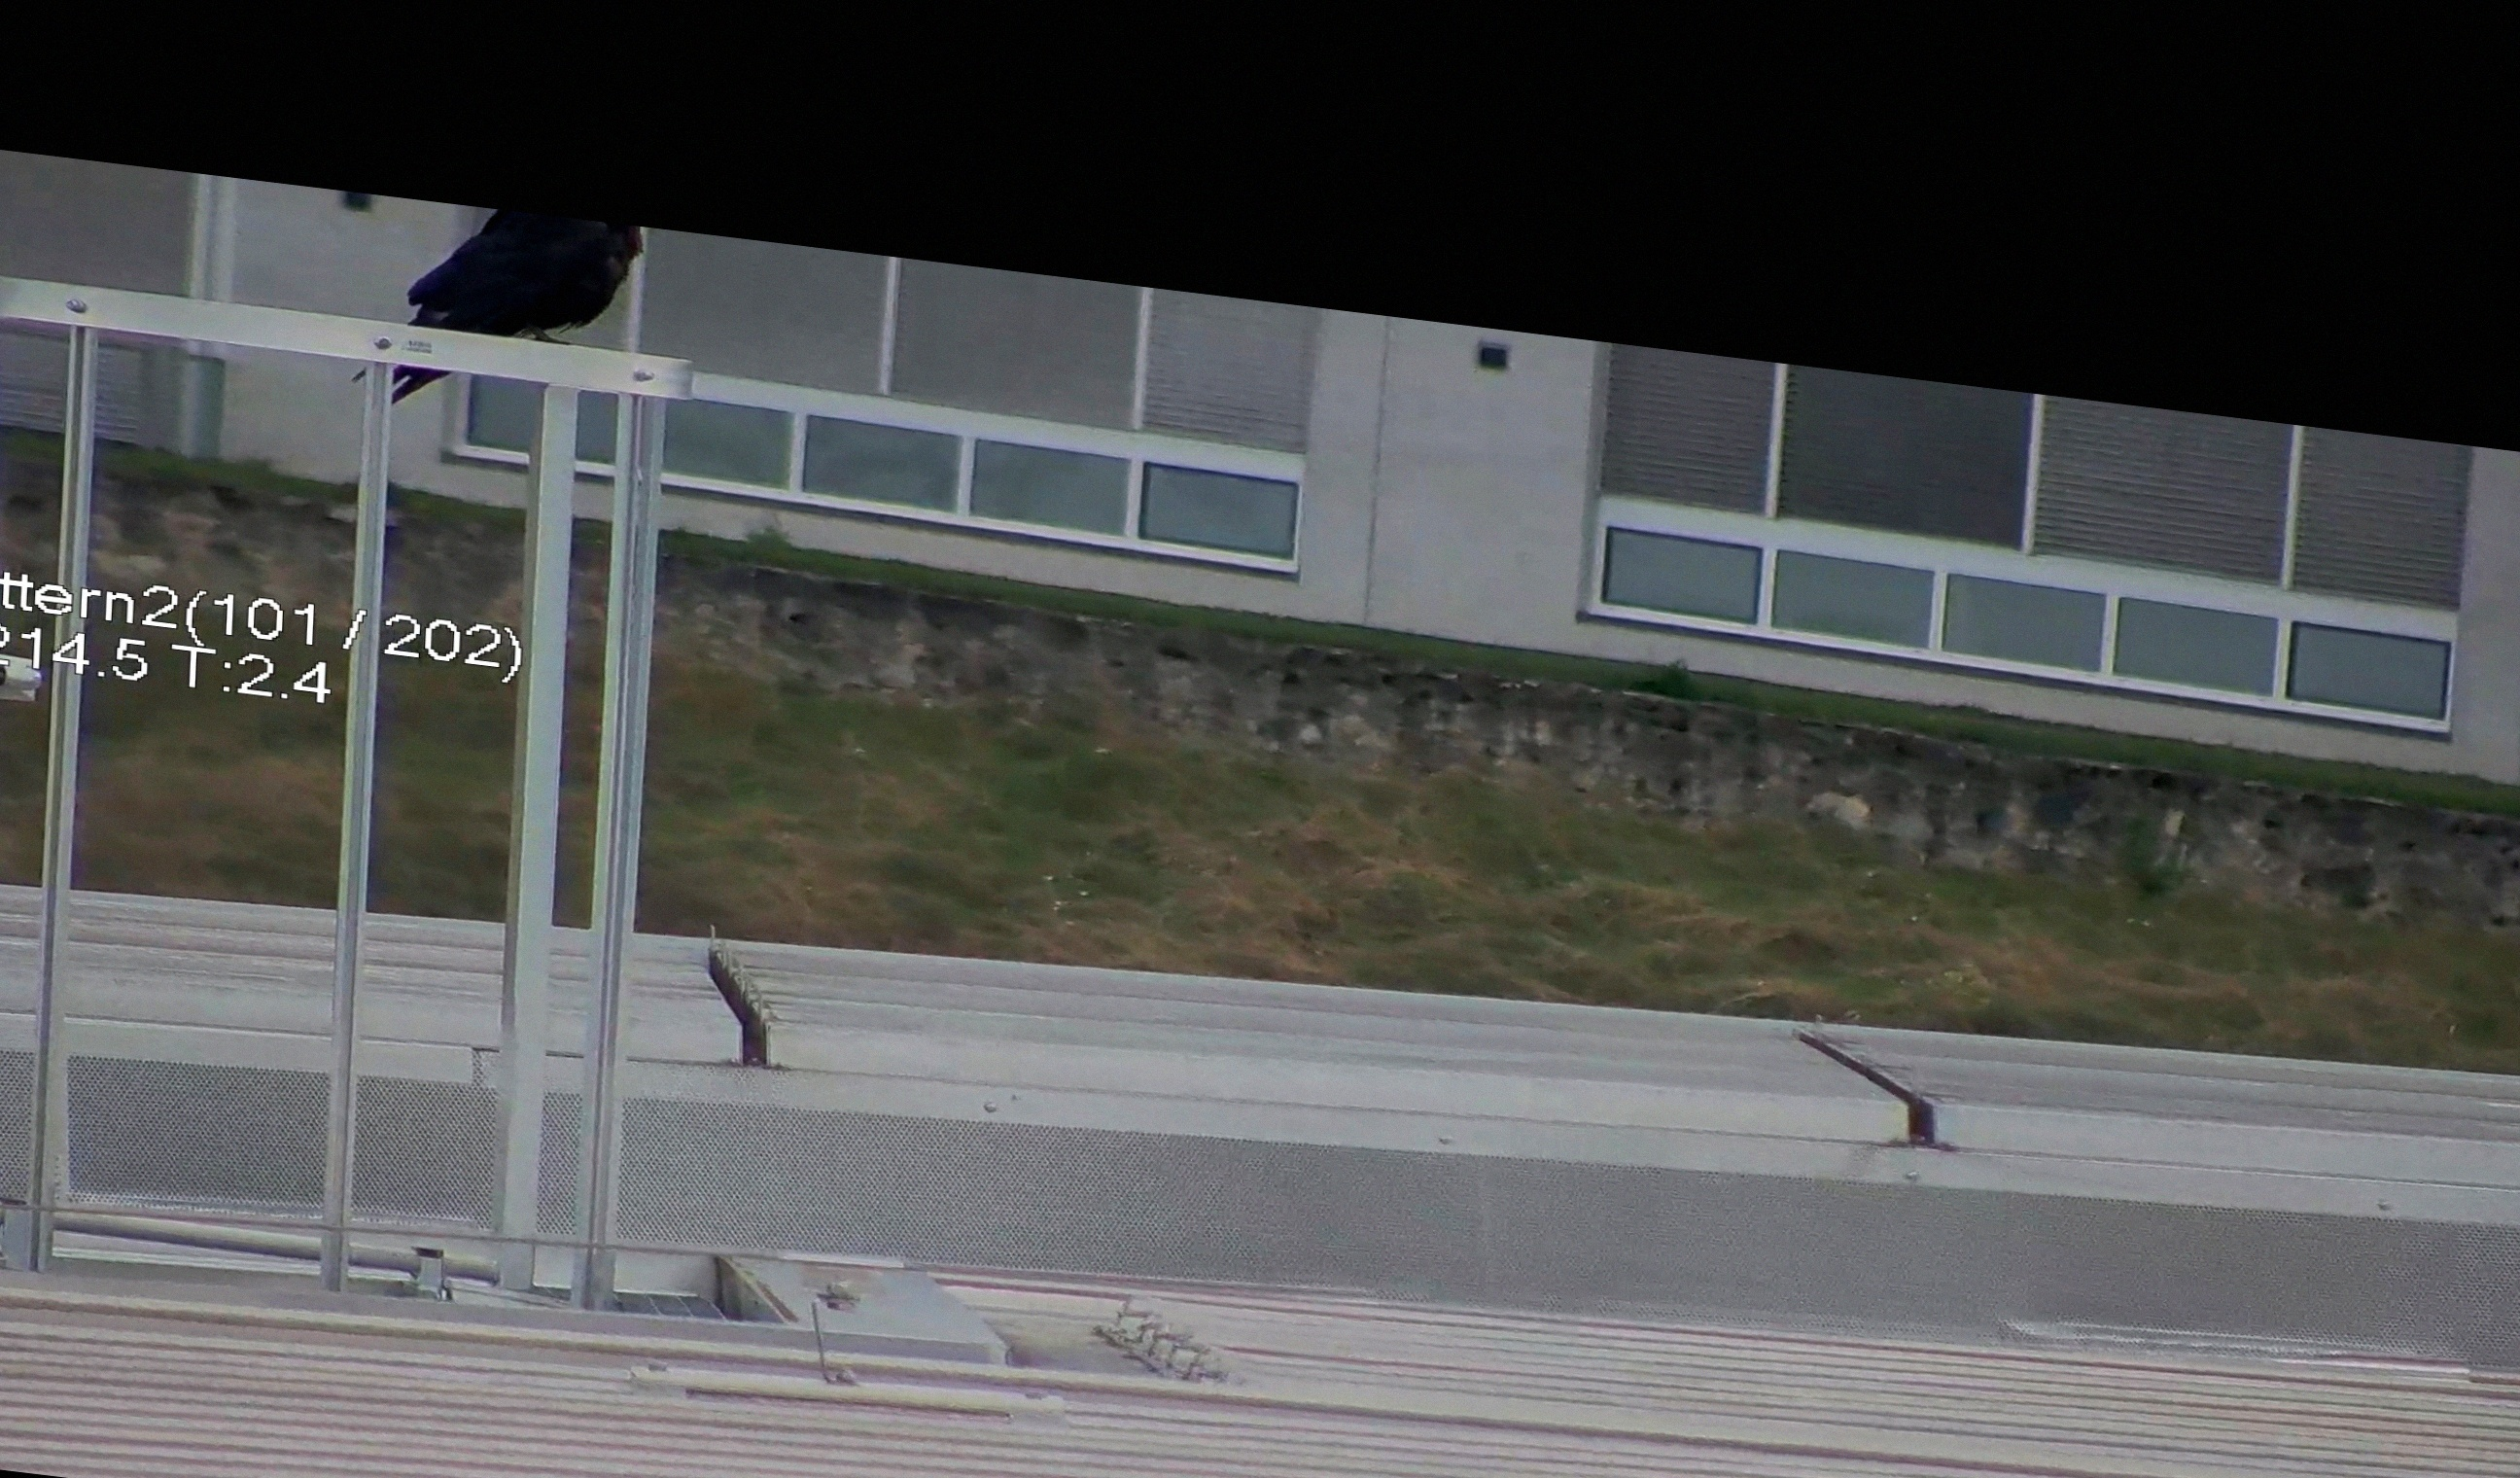Other: (385, 190, 638, 371)
